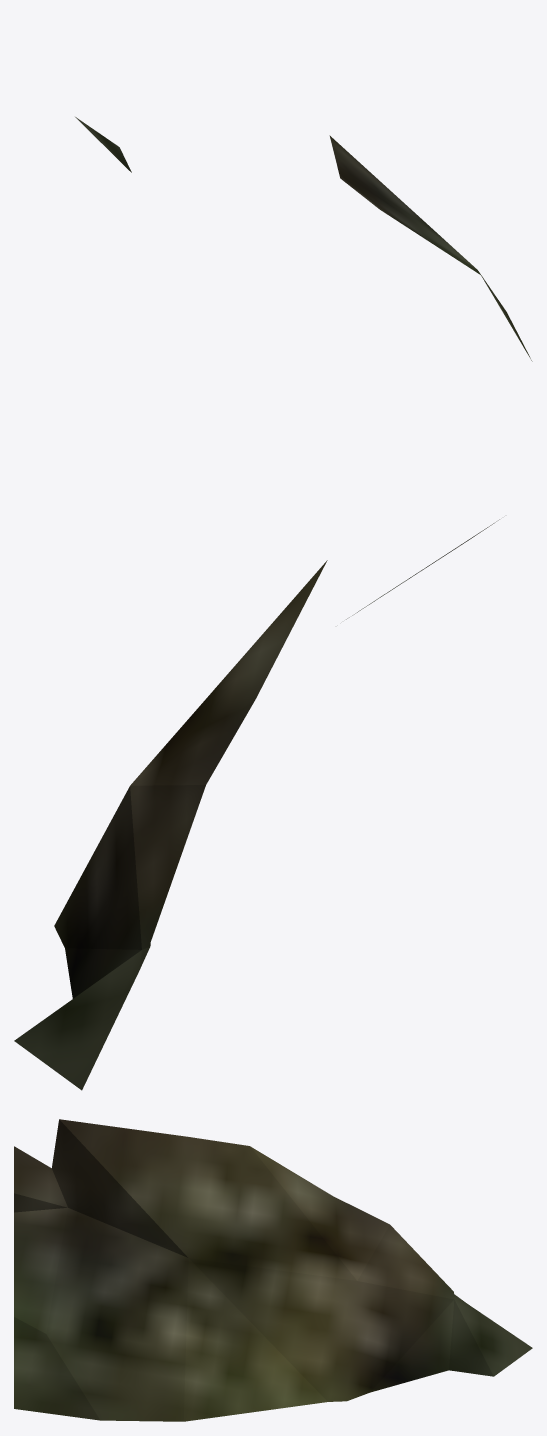
The picture shows the model from 3 angles, top to bottom: view 1: azimuth 30°, elevation 25°; view 2: azimuth 150°, elevation 25°; view 3: azimuth 270°, elevation 25°; orthographic projection. The views are drawn at different scales.
Bounding box in the file's own units: 0.1481 × 0.2146 × 0.4409.
1 material, 1 textured.
